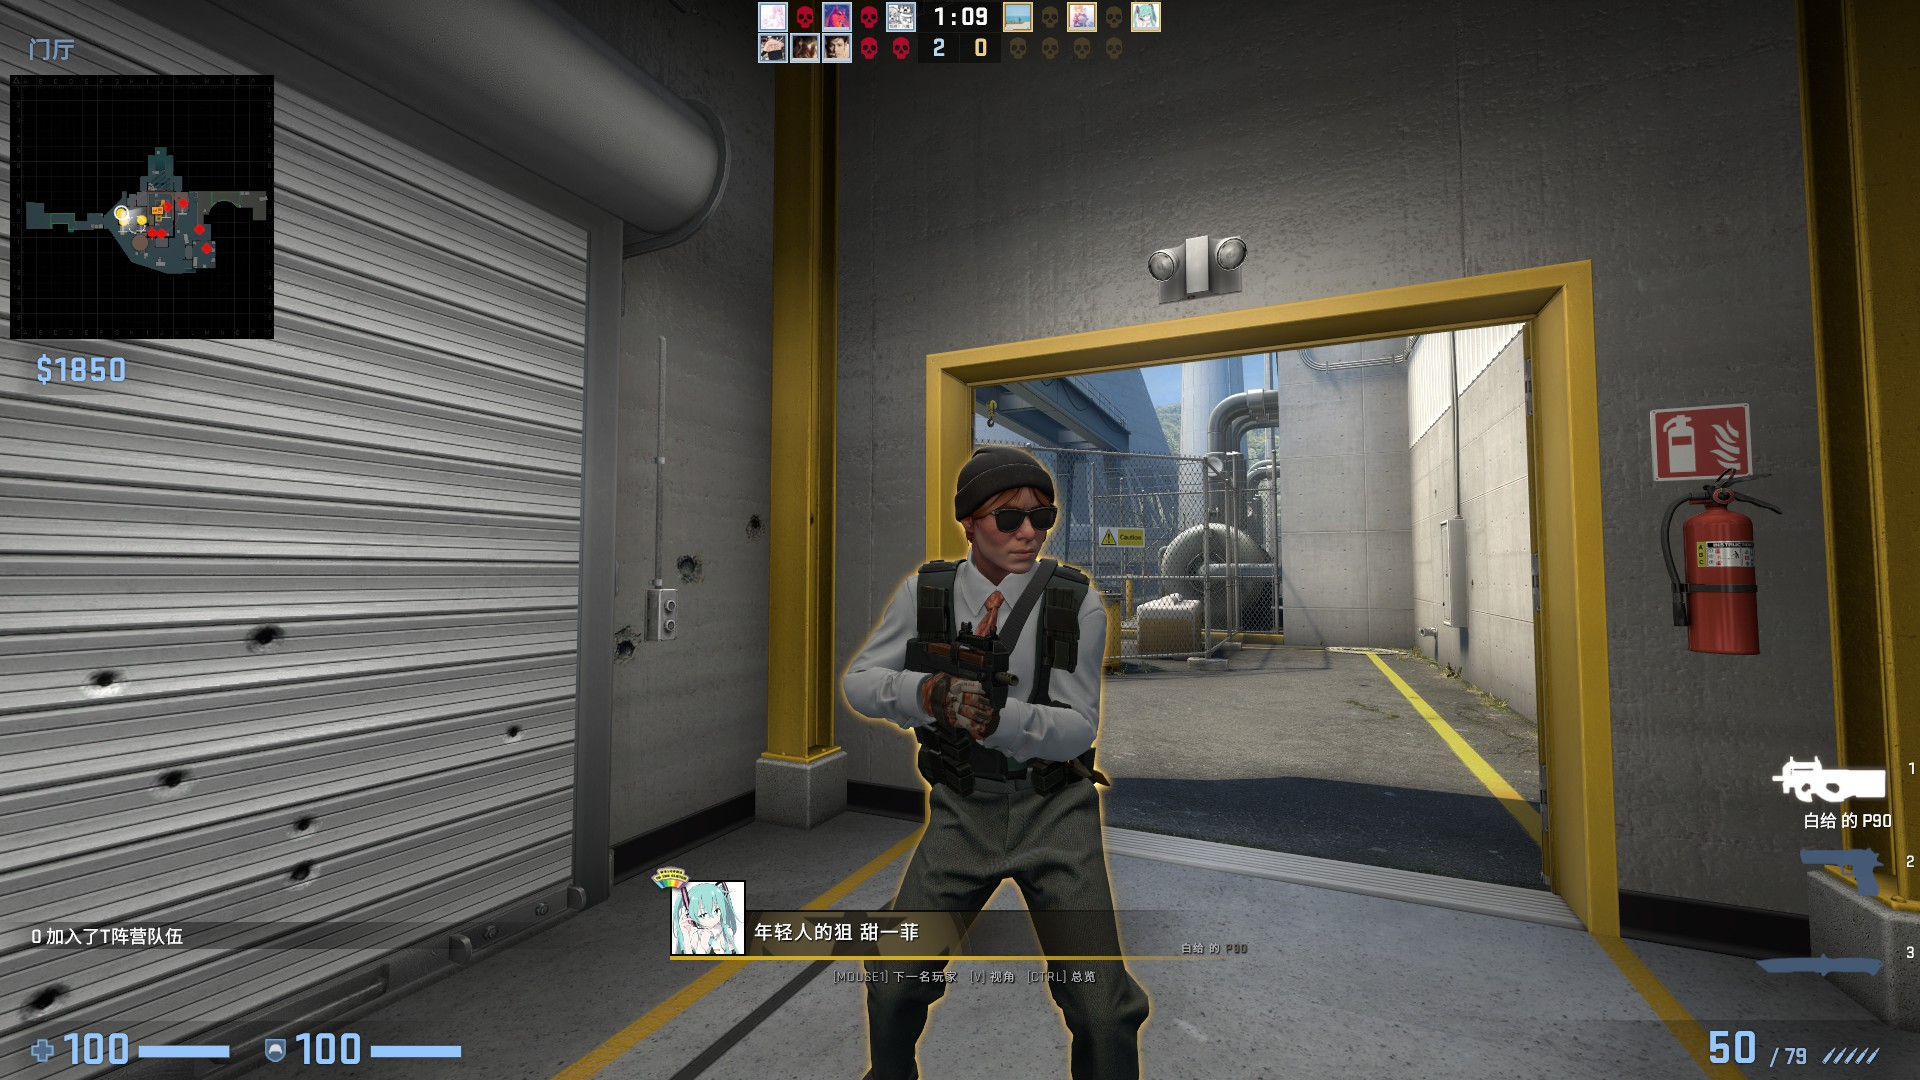head: (941, 442, 1064, 578)
